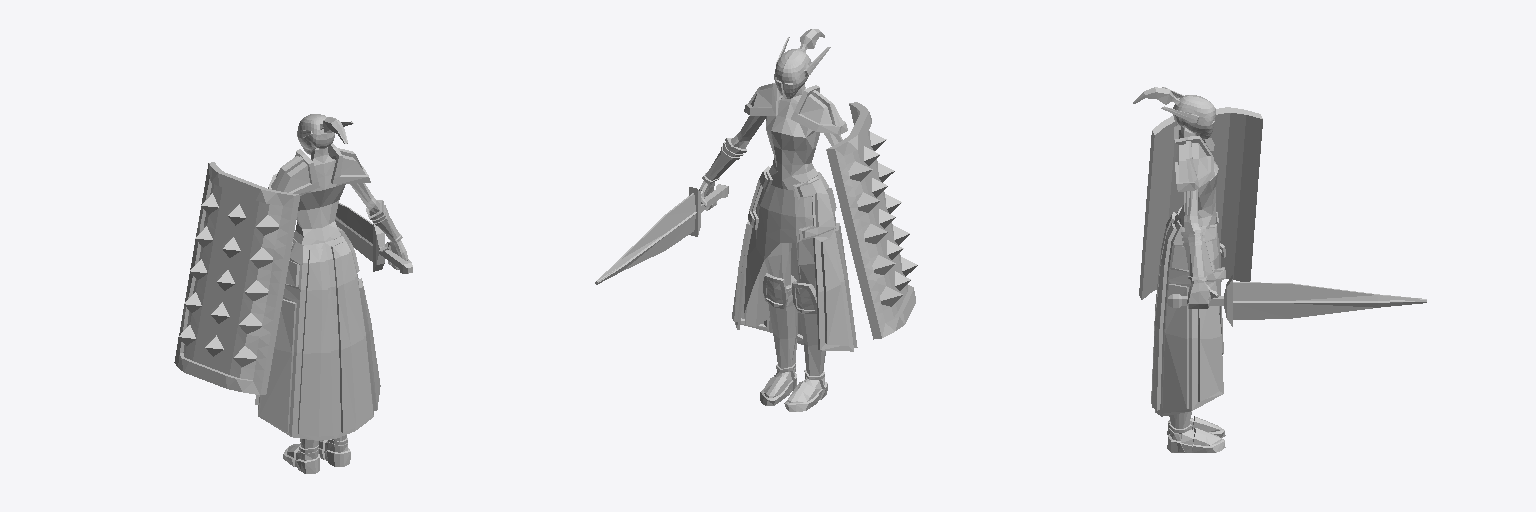
The model's file is hero.obj.
The picture shows the model from 3 angles: view 1: azimuth 30°, elevation 25°; view 2: azimuth 150°, elevation 25°; view 3: azimuth 270°, elevation 25°; orthographic projection.
Parts seen in each view (by area): view 1: Polished_Ball_of_Dirt_Cube; view 2: Polished_Ball_of_Dirt_Cube; view 3: Polished_Ball_of_Dirt_Cube.
Boxes of the visible parts, box(x1,y1,x2,y2) form: Polished_Ball_of_Dirt_Cube: box(174, 114, 412, 473); Polished_Ball_of_Dirt_Cube: box(595, 29, 917, 411); Polished_Ball_of_Dirt_Cube: box(1133, 87, 1426, 452).
Bounding box in the file's own units: 1.18 × 1.87 × 1.41.